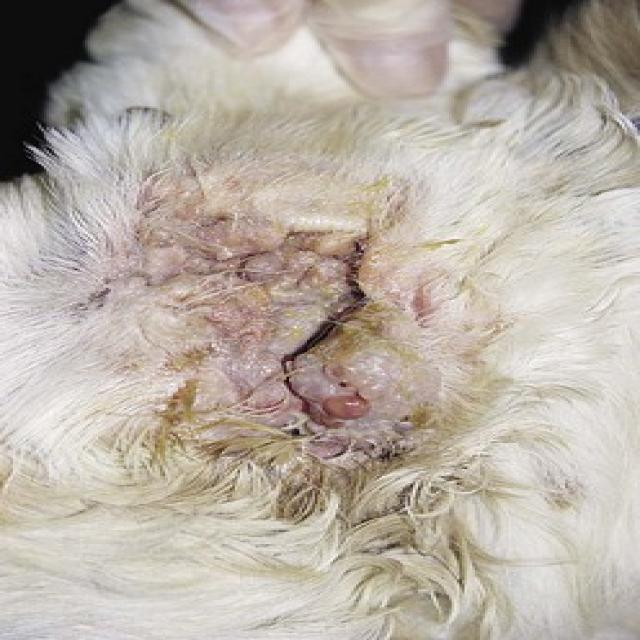allergic dermatitis: (88, 130, 510, 520)
